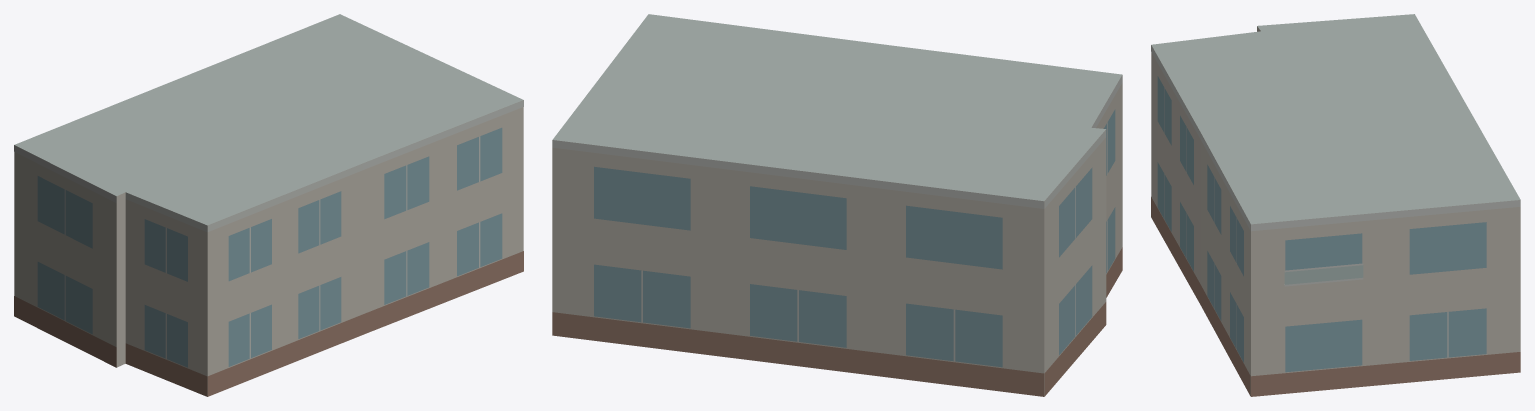
File: survey-upis-32624104.glb
The picture shows the model from 3 angles, left to right: view 1: azimuth 30°, elevation 25°; view 2: azimuth 150°, elevation 25°; view 3: azimuth 270°, elevation 25°; orthographic projection. The views are drawn at different scales.
Parts seen in each view (by area): view 1: survey-upis-32624104.tmp; view 2: survey-upis-32624104.tmp; view 3: survey-upis-32624104.tmp.
Part boxes in pixels (bbox=[...]): survey-upis-32624104.tmp: bbox=[14, 14, 523, 396]; survey-upis-32624104.tmp: bbox=[552, 14, 1122, 396]; survey-upis-32624104.tmp: bbox=[1151, 14, 1520, 396].
Bounding box in the file's own units: 15.96 × 6.1 × 11.85.
